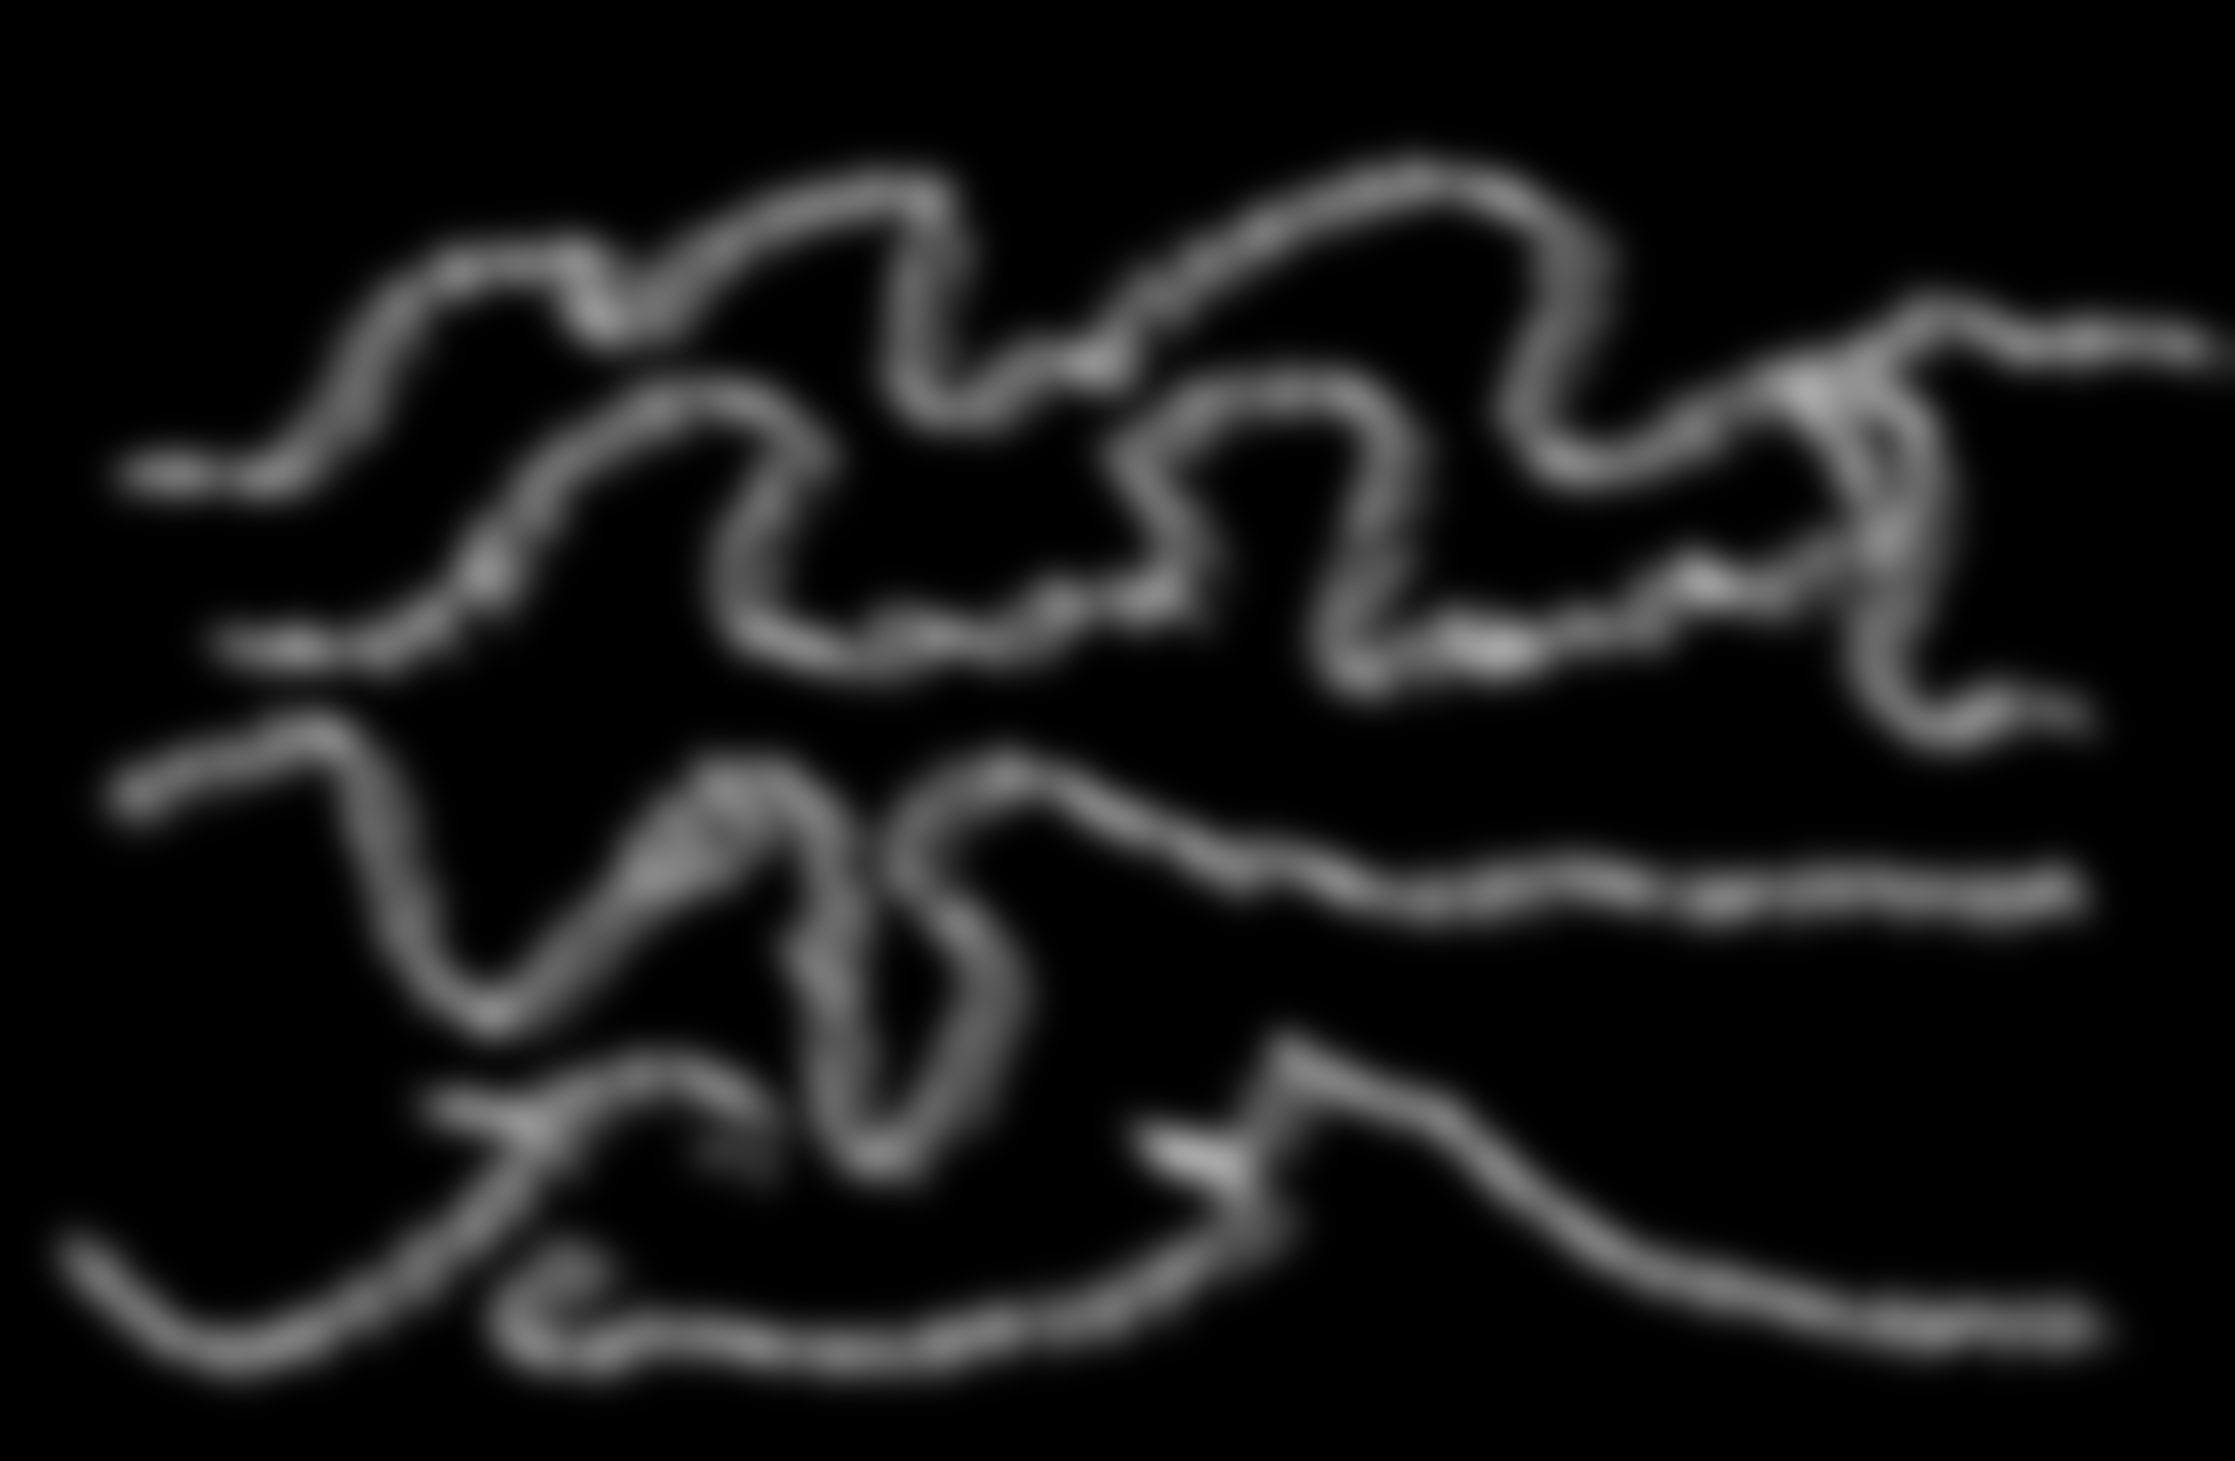turbulence: (51, 47, 2202, 1422)
